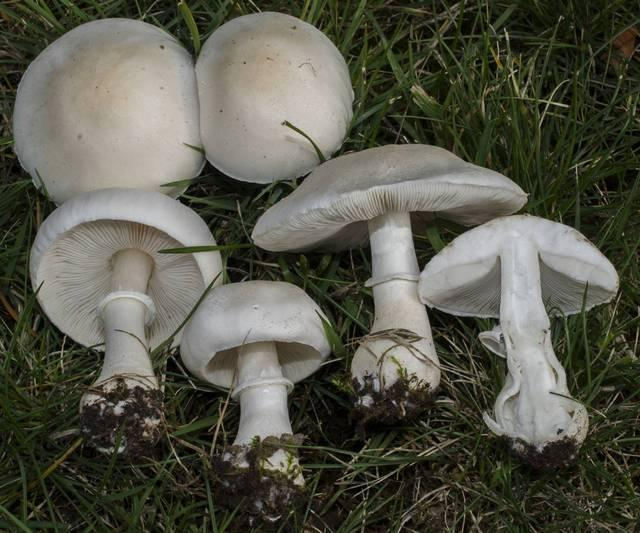poisonous_mushroom: (250, 141, 529, 424), (27, 186, 223, 457), (417, 212, 620, 470), (11, 16, 205, 205), (178, 278, 332, 487), (194, 10, 355, 184)
